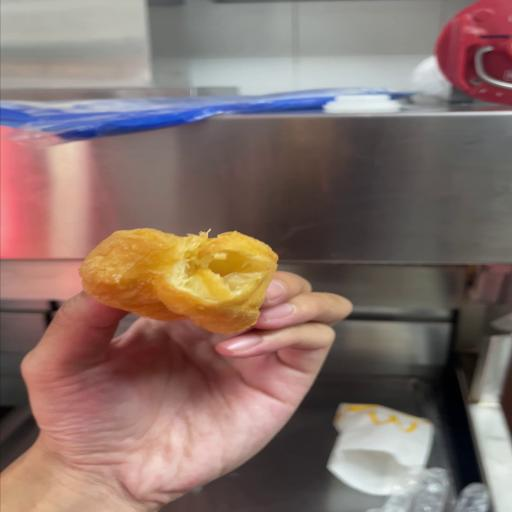brand_golden_defect: (79, 229, 277, 334)
